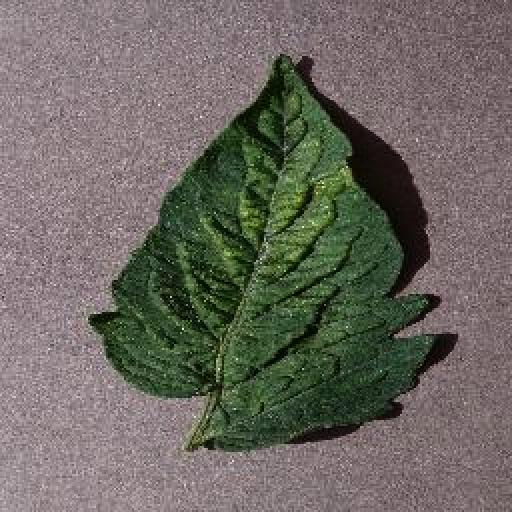disease_tomato: (92, 54, 440, 448)
